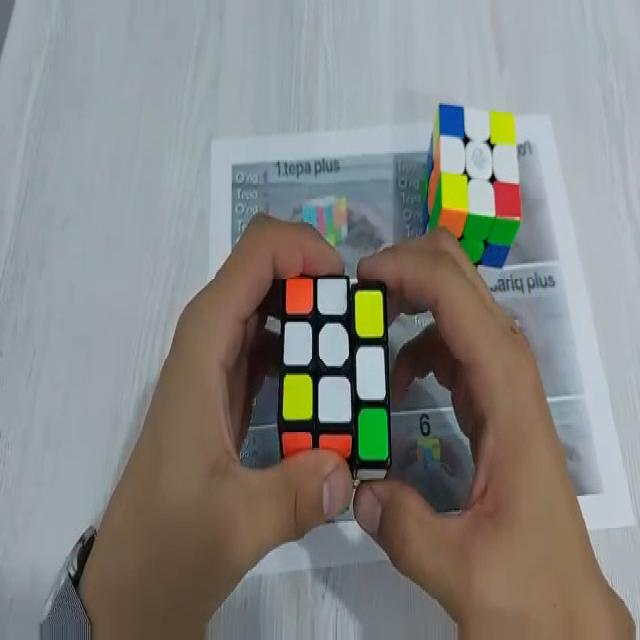Rub: (278, 267, 393, 493), (427, 102, 523, 273)
